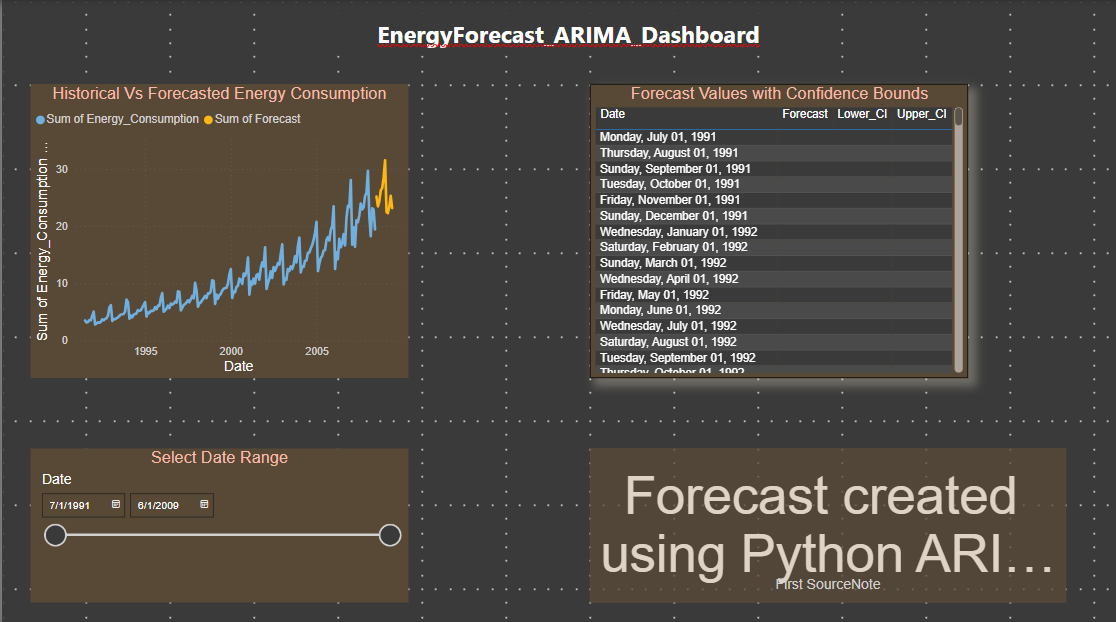

The page's visual inventory and layout, read from the dashboard file:
{"tool":"powerbi","page":{"name":"Page 1","canvas":[1280,720],"ordinal":0},"visuals":[{"type":"lineChart","title":"Historical Vs Forecasted Energy Consumption","fields":{"Category":["energy_forecast.Date"],"Y":["Sum(energy_forecast.Energy_Consumption)","Sum(energy_forecast.Forecast)"]},"box":[32,48,432,336],"z":0},{"type":"tableEx","title":"Forecast Values with Confidence Bounds","fields":{"Values":["energy_forecast.Date","energy_forecast.Forecast","energy_forecast.Lower_CI","energy_forecast.Upper_CI"]},"box":[666.9,48,432,336],"z":1000},{"type":"slicer","title":"Select Date Range","fields":{"Values":["energy_forecast.Date"]},"box":[32,496,432,176],"z":2000},{"type":"card","fields":{"Values":["Min(energy_forecast.SourceNote)"]},"box":[592,496,544,176],"z":3000}]}

Visuals, with their boxes in screenshot pixels (x1, y1, x2, y2), scaled from the page's 1280x720 canvas onto the 1116x622 screenshot:
"Historical Vs Forecasted Energy Consumption" lineChart: BBox(28, 41, 405, 332)
"Forecast Values with Confidence Bounds" tableEx: BBox(581, 41, 958, 332)
"Select Date Range" slicer: BBox(28, 428, 405, 581)
card - Min(energy_forecast.SourceNote): BBox(516, 428, 990, 581)
